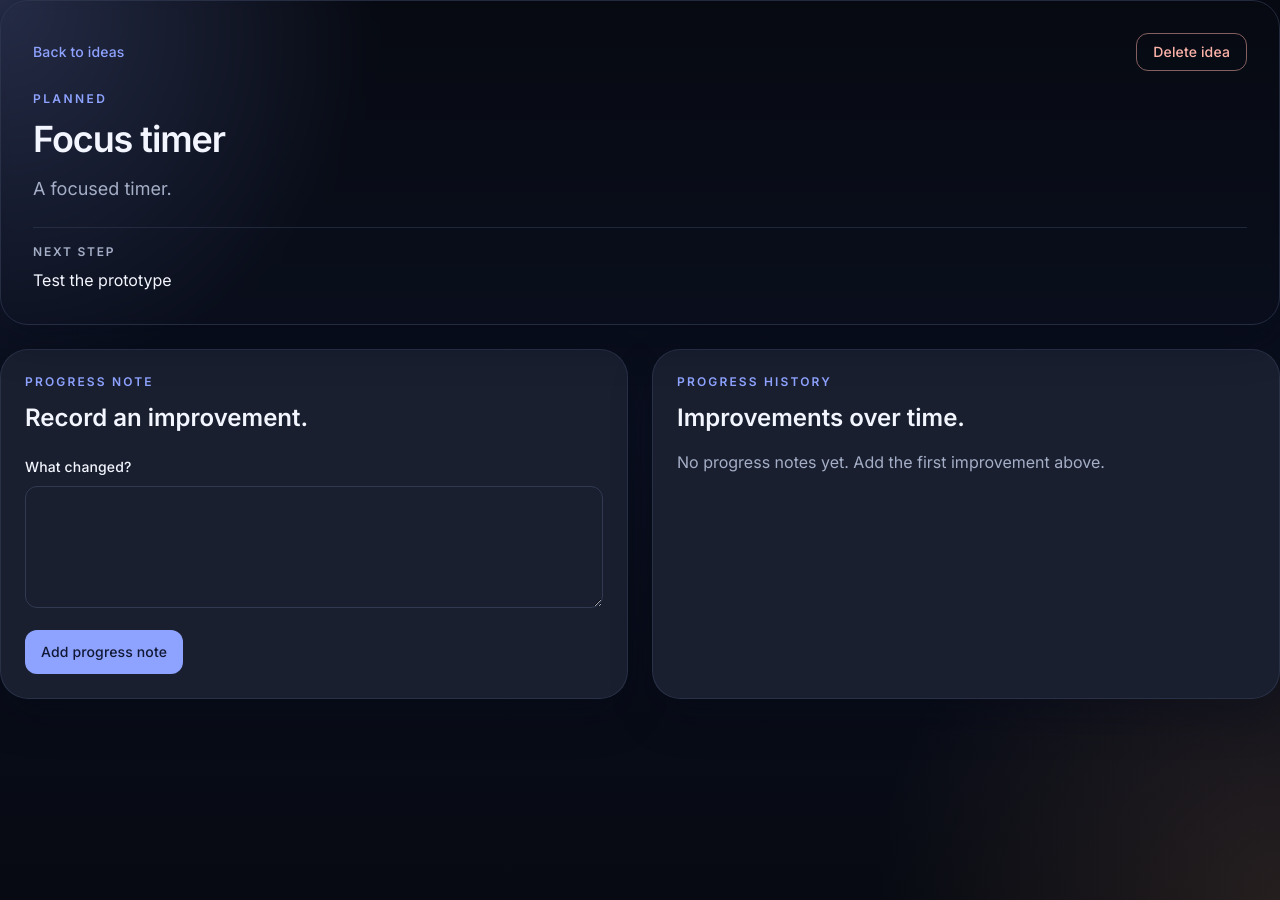
Test: ProjectIdeaDetailPage › keeps a progress-note error by the form
Check: the heading "Focus timer" is shown, box [33,117,225,161]
Step 1. Click the button "Add progress note" → (104, 652), box [25,630,183,674]
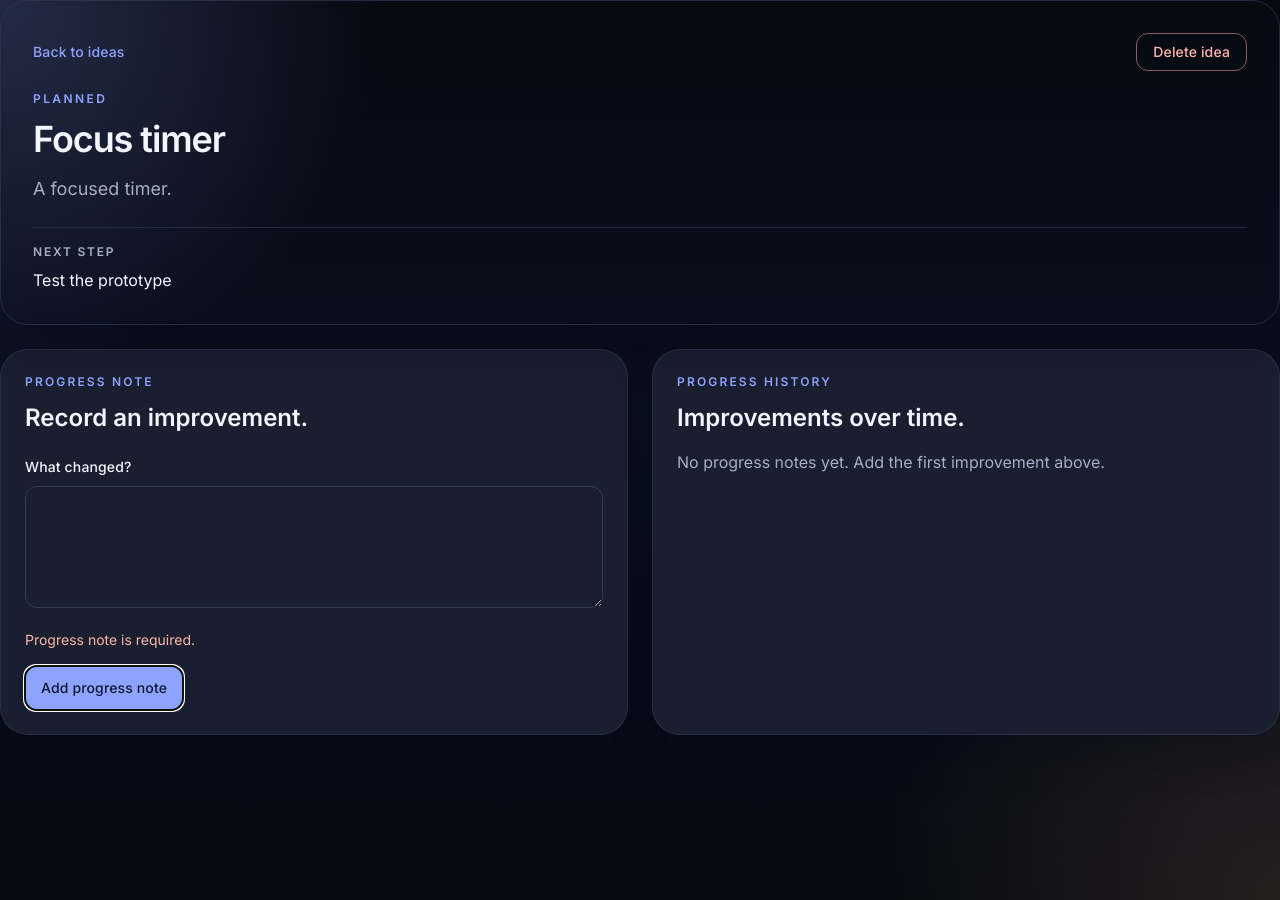
Check: the text "Progress note is required." is shown, box [25,631,195,648]
